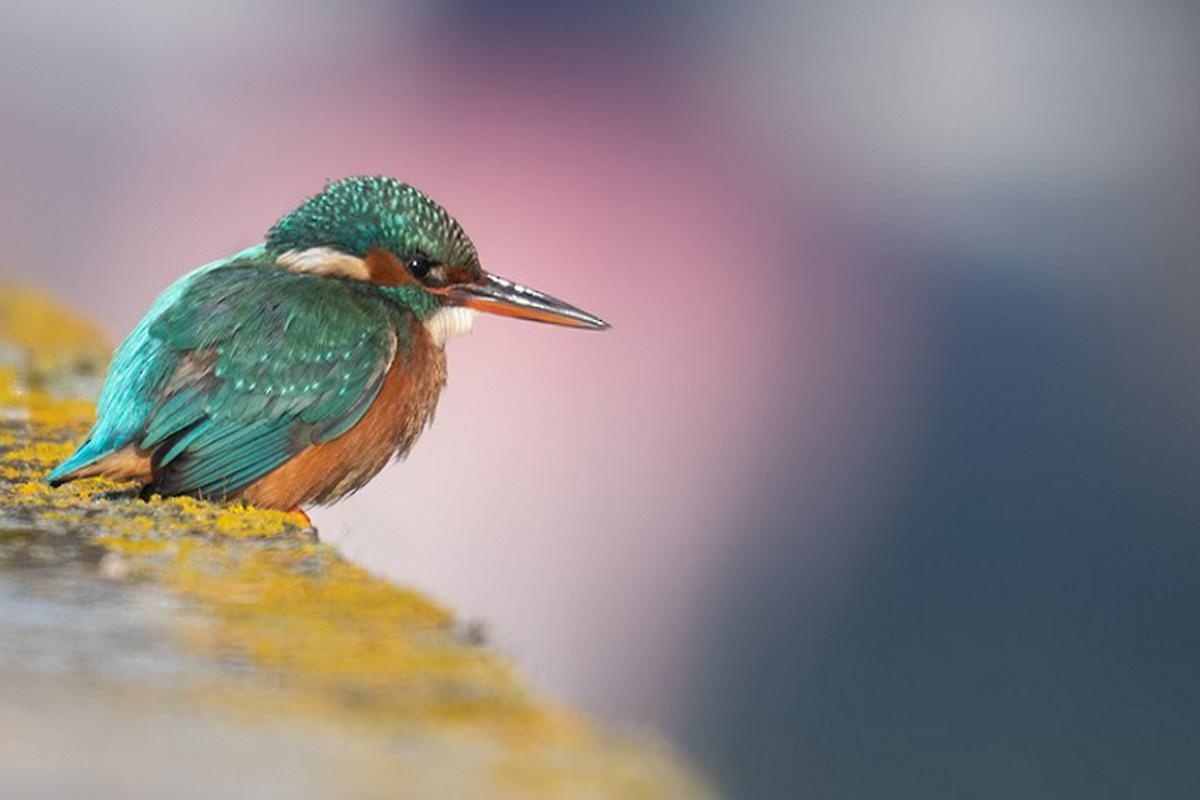kingfisher: (67, 135, 616, 578)
